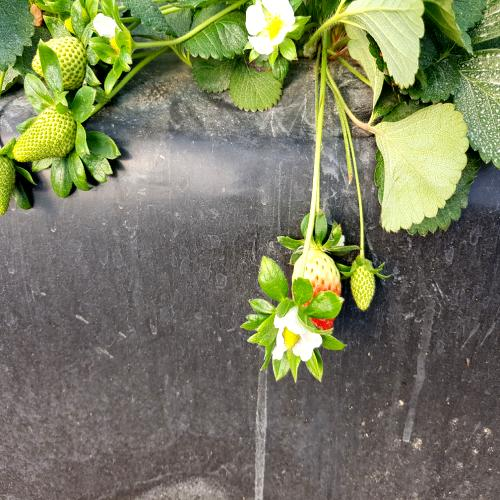partially-ripe: (284, 240, 347, 331)
